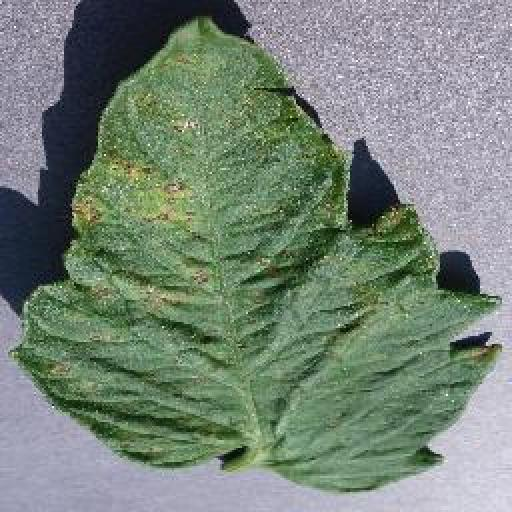disease_tomato: (16, 16, 500, 492)
